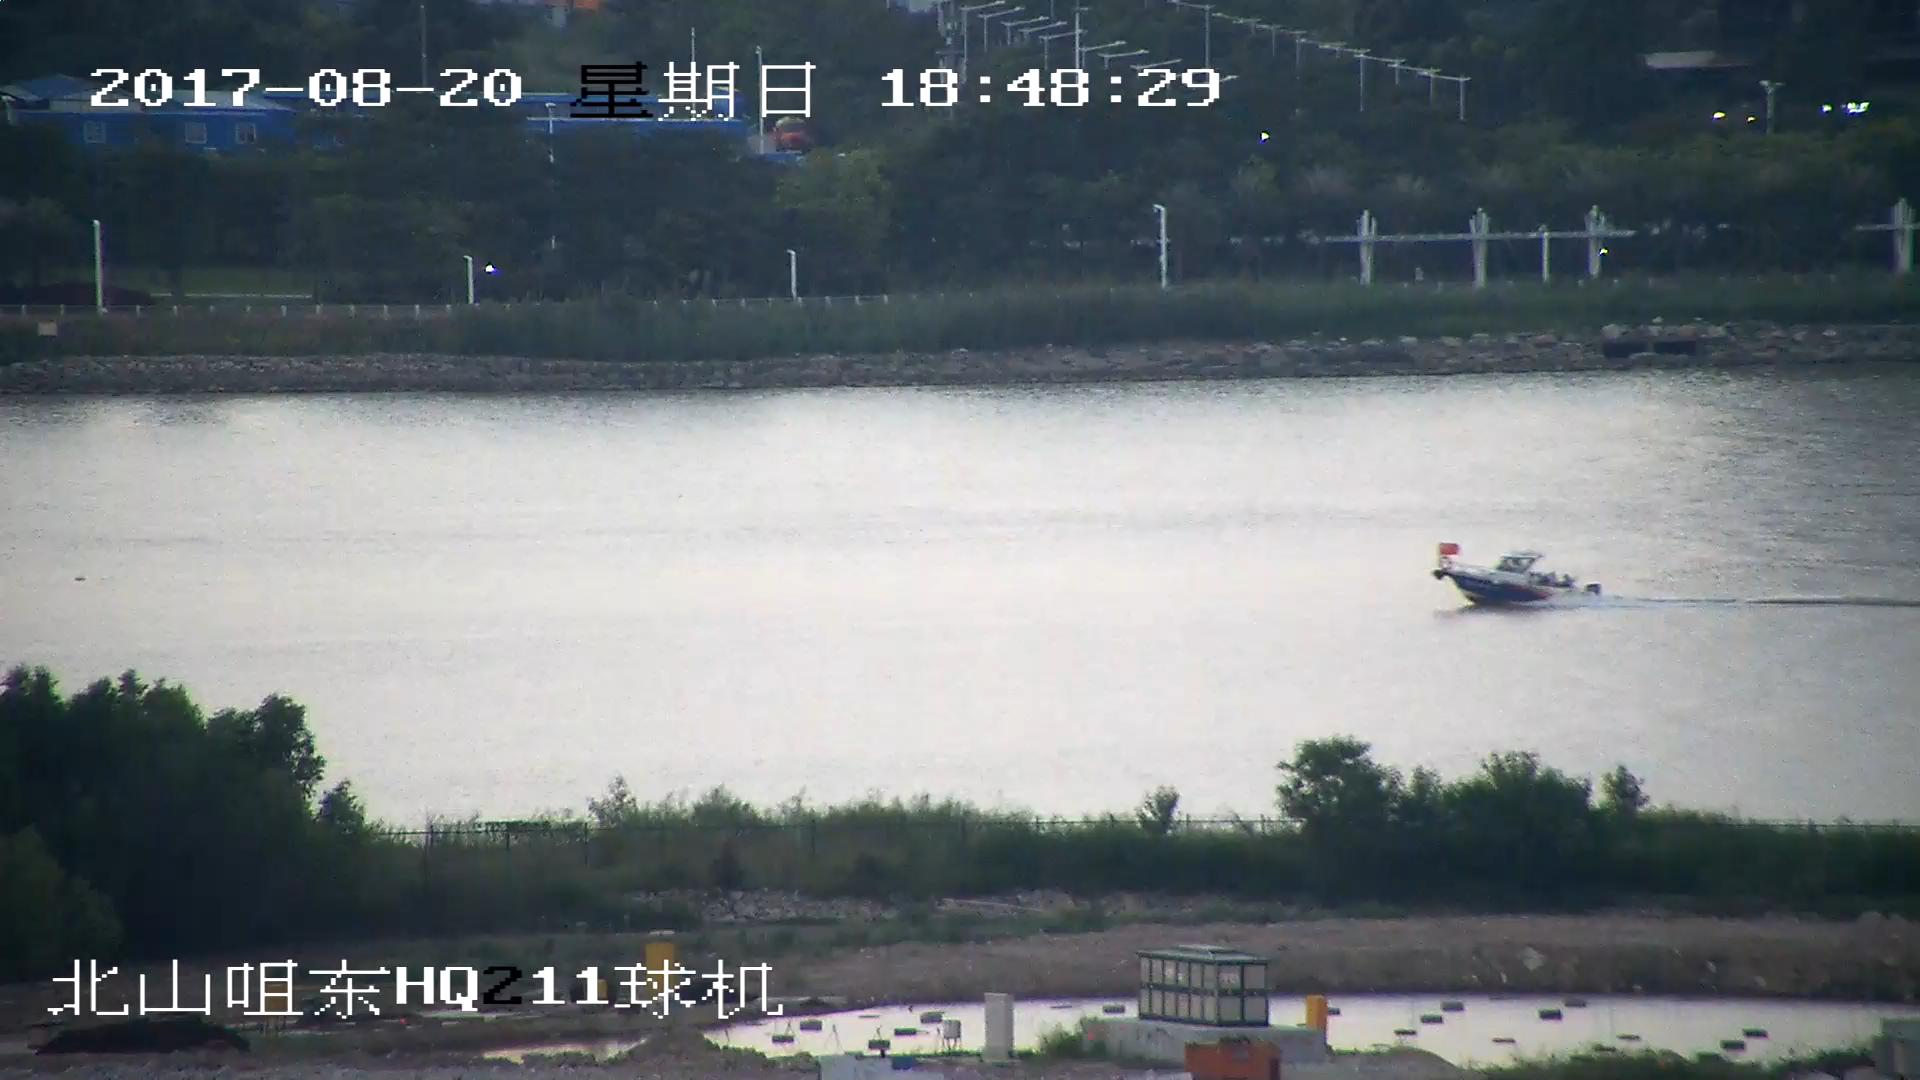passenger ship: (1440, 542, 1605, 610)
